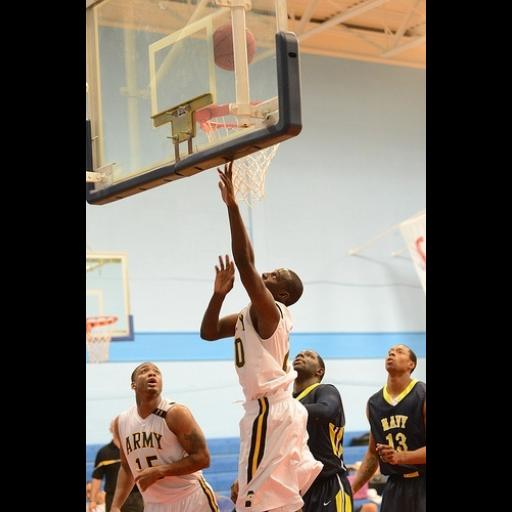basketball: (200, 19, 262, 73)
hoop: (195, 100, 283, 206)
player: (186, 162, 314, 512), (106, 359, 222, 512), (355, 342, 427, 510), (292, 347, 352, 512)
